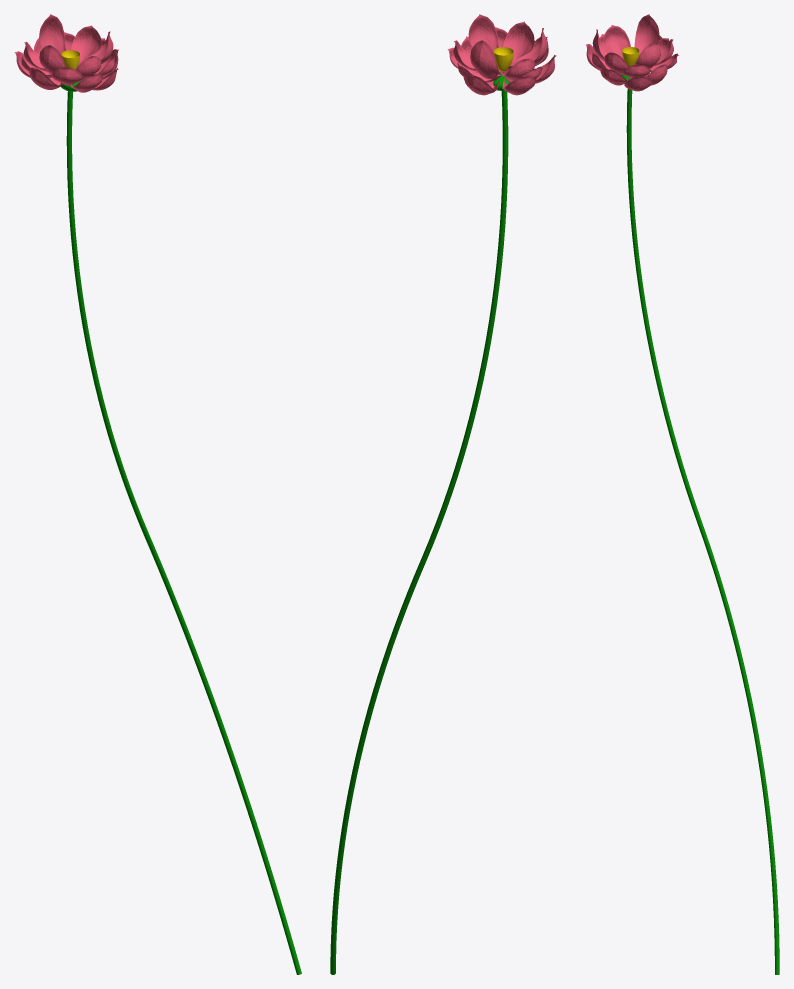
The model's file is Lotus066.fbx.
3 views of the same model, side by side, from view 1: azimuth 30°, elevation 25°; view 2: azimuth 150°, elevation 25°; view 3: azimuth 330°, elevation 25° (orthographic). The views are drawn at different scales.
Visible parts, largest first — view 1: pCylinder5, nurbsToPoly23, nurbsToPoly19; view 2: pCylinder5, nurbsToPoly18, nurbsToPoly23, nurbsToPoly22; view 3: pCylinder5, nurbsToPoly23, nurbsToPoly20.
Boxes of the visible parts, x1,y1,x2,y2 form: pCylinder5: (66, 91, 301, 974); nurbsToPoly23: (39, 14, 66, 54); nurbsToPoly19: (71, 25, 100, 61); pCylinder5: (330, 90, 508, 974); nurbsToPoly18: (503, 21, 534, 61); nurbsToPoly23: (470, 40, 500, 78); nurbsToPoly22: (468, 14, 499, 53); pCylinder5: (626, 88, 779, 974); nurbsToPoly23: (634, 14, 659, 56); nurbsToPoly20: (603, 25, 630, 57).
Size of the model in its own units: 52.48 by 202 by 24.34.
